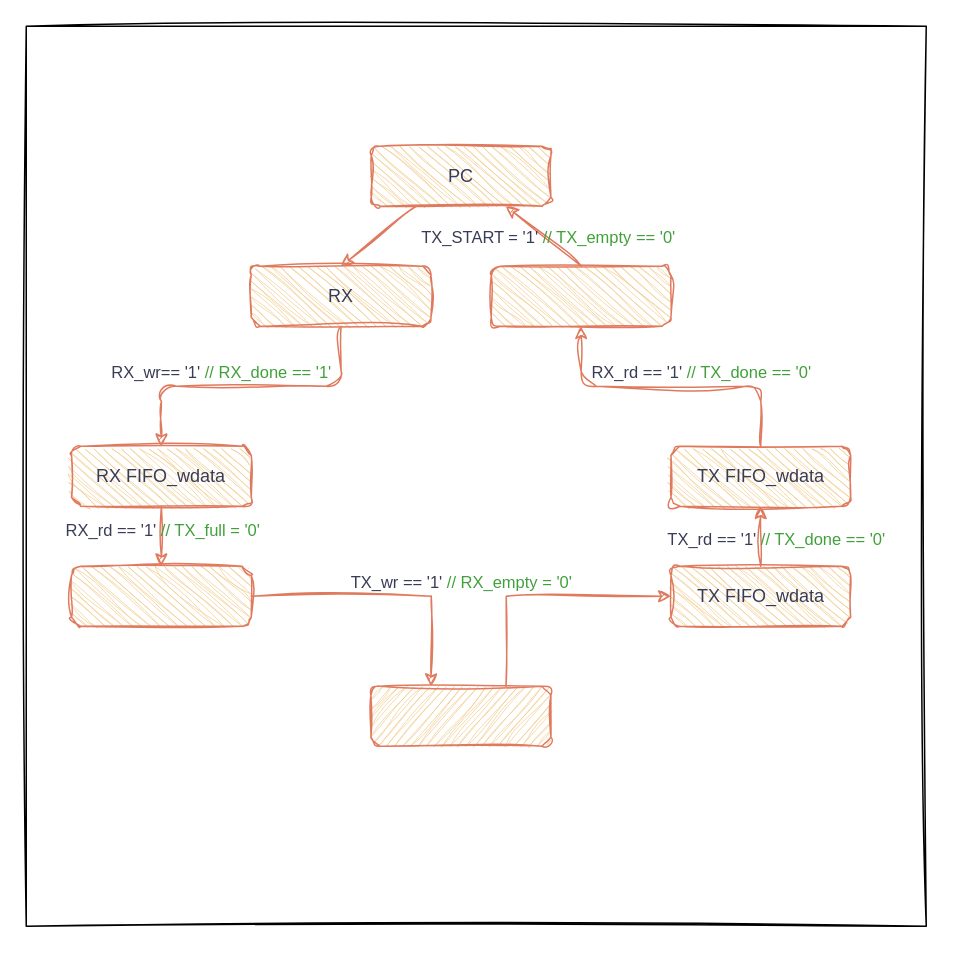
The diagram is 953 pixels wide and 953 high, and some of its shapes have lost their labels. Each missing label, with the box of its shape:
Clock: (369, 685, 551, 746)
RX FIFO_rdata: (70, 565, 251, 626)
TX: (490, 265, 671, 326)
